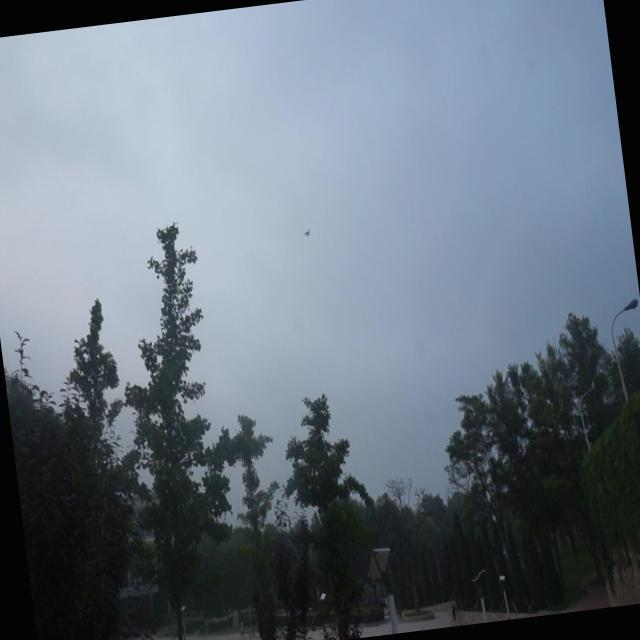drone: (301, 224, 313, 240)
